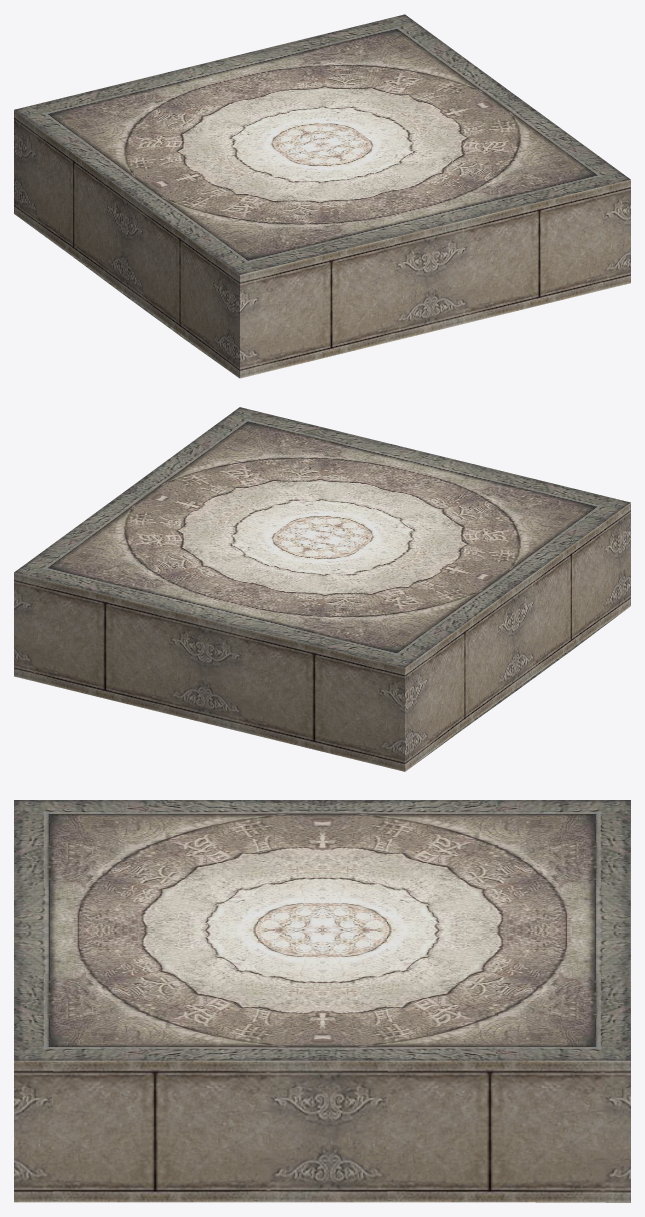
Rendered from middlePlatform.FBX.
3 renders of one model, top to bottom at view 1: azimuth 30°, elevation 25°; view 2: azimuth 150°, elevation 25°; view 3: azimuth 270°, elevation 25°, orthographic. The views are drawn at different scales.
Visible parts, largest first — view 1: Box109; view 2: Box109; view 3: Box109.
Boxes of the visible parts, x1,y1,x2,y2 form: Box109: (14, 14, 630, 378); Box109: (14, 407, 630, 771); Box109: (14, 800, 630, 1202).
Size of the model in its own units: 200 by 51.19 by 200.
